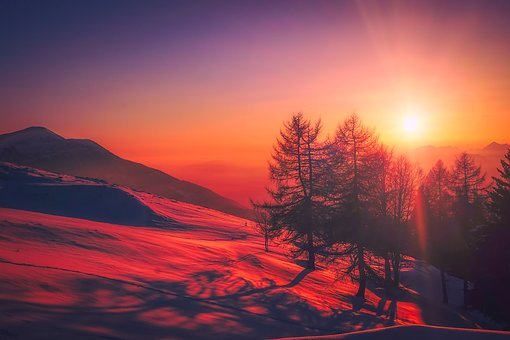mountain: (13, 116, 505, 340)
sky: (6, 5, 506, 147)
tree: (269, 115, 510, 288)
